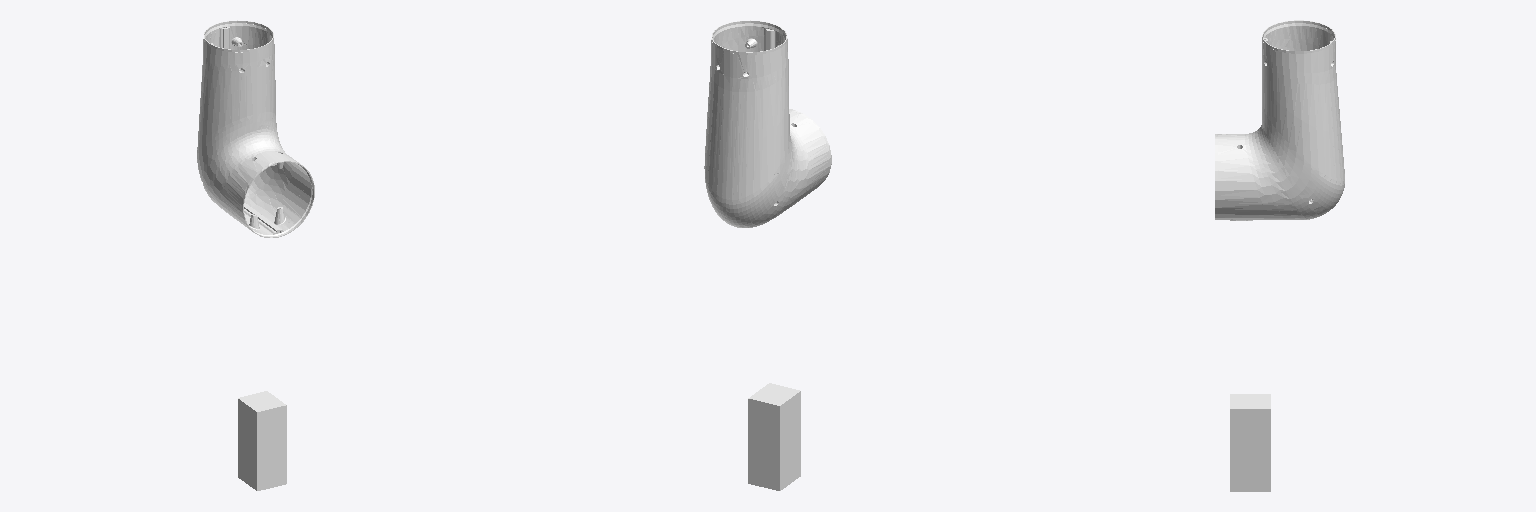
URDF robot description (robotinoarm):
<robot name="robotinoarm">

	<link name="linkbase">
	
		<collision>
		
			<geometry>
				<box size="0.04096 0.0473 0.105" />
			</geometry>
			<origin rpy="0 0 0" xyz="0 0 0.0525"/>
			
		</collision>
		
		<visual>
			<geometry>
				<box size="0.04096 0.0473 0.105" />
			</geometry>
			<material name="white">
				<color rgba="1 1 1 1"/>
			</material>
			<origin rpy="0 0 0" xyz="0 0 0.0525"/>
		</visual>
	
	</link>
	
	<link name="linkbasemotor">
	
		<collision>
			<origin rpy="0 0 0" xyz="0 0 0"/>
			<geometry>
			  <mesh filename="package://uibk_arm_model/meshes/motor1_collision.stl"/>
			</geometry>
		</collision>
		
		<visual>
			<geometry>
				<mesh filename="package://uibk_arm_model/meshes/motor1.stl"/>
			</geometry>
			<material name="white" />
			<origin rpy="0 0 0" xyz="0 0 0"/>
		</visual>
	
	</link>
	
	<link name="link1">
	
		<collision>
			<origin rpy="0 0 0" xyz="0 0 0"/>
			<geometry>
			  <mesh filename="package://uibk_arm_model/meshes/link1_collision.stl"/>
			</geometry>
		</collision>
		
		<visual>
			<geometry>
				<mesh filename="package://uibk_arm_model/meshes/link1.stl"/>
			</geometry>
			<material name="white" />
			<origin rpy="0 0 0" xyz="0 0 0"/>
		</visual>
	
	</link>
	
	<link name="link2">
	
		<collision>
			<origin rpy="0 0 0" xyz="0 0 0"/>
			<geometry>
			  <mesh filename="package://uibk_arm_model/meshes/link2_collision.stl"/>
			</geometry>
		</collision>
		
		<visual>
			<geometry>
				<mesh filename="package://uibk_arm_model/meshes/link2.stl"/>
			</geometry>
			<material name="white" />
			<origin rpy="0 0 0" xyz="0 0 0"/>
		</visual>
	
	</link>
	
	<link name="link3">
	
		<collision>
			<origin rpy="0 0 0" xyz="0 0 0"/>
			<geometry>
			  <mesh filename="package://uibk_arm_model/meshes/link3_collision.stl"/>
			</geometry>
		</collision>
		
		<visual>
			<geometry>
				<mesh filename="package://uibk_arm_model/meshes/link3.stl"/>
			</geometry>
			<material name="white" />
			<origin rpy="0 0 0" xyz="0 0 0"/>
		</visual>
	
	</link>
	
	<link name="link4">
	
		<collision>
			<origin rpy="0 0 0" xyz="0 0 0"/>
			<geometry>
			  <mesh filename="package://uibk_arm_model/meshes/link4_collision.stl"/>
			</geometry>
		</collision>
		
		<visual>
			<geometry>
				<mesh filename="package://uibk_arm_model/meshes/link4.stl"/>
			</geometry>
			<material name="white" />
			<origin rpy="0 0 0" xyz="0 0 0"/>
		</visual>
		
	</link>
	
	<link name="link5">
		
	</link>
	
	<link name="linkhandbase">
		
	</link>

	<joint name="baserot" type="revolute">
		<parent link="linkbase"/>
		<child link="linkbasemotor"/>
		<axis xyz="0 0 1" />
		<origin xyz="0.0 -0.01591 0.140" rpy="0 0 0" />
		<limit upper="1.7" lower="-1.7" effort="160" velocity="30" />
	</joint>

	<joint name="armjoint1" type="revolute">
		<parent link="linkbasemotor"/>
		<child link="link1"/>
		<origin xyz="0.0 -0.02 0.0" rpy="0 0 0" />
		<axis xyz="0 1 0" />
		<limit upper="1.9" lower="-1.9" effort="190" velocity="30" />
	</joint>
	
	<joint name="armjoint2" type="revolute">
		<parent link="link1"/>
		<child link="link2"/>
		<axis xyz="0 1 0" />
		<origin xyz="0.0 0.09 0.28" rpy="0 0 0" />
		<limit upper="1.9" lower="-1.9" effort="190" velocity="30" />
	</joint>
	
	<joint name="armjoint3" type="revolute">
		<parent link="link2"/>
		<child link="link3"/>
		<origin xyz="0.0 0.0 0.13" rpy="0 0 0" />
		<axis xyz="0 0 1" />
		<limit upper="1.7" lower="-1.7" effort="190" velocity="30" />
	</joint>

	<joint name="armjoint4" type="revolute">
		<parent link="link3"/>
		<child link="link4"/>
		<origin xyz="0.0 -0.053 0.065" rpy="0 0 0" />
		<axis xyz="0 0 1" />
		<limit upper="1.7" lower="-1.7" effort="160" velocity="30" />
	</joint>
	
	<joint name="armjoint5" type="revolute">
		<parent link="link4"/>
		<child link="link5"/>
		<origin xyz="0.0 -0.027 0.035" rpy="0 0 0" />
		<axis xyz="0 0 1" />
		<limit upper="1.7" lower="-1.7" effort="160" velocity="30" />
	</joint>
	
	<joint name="handjoint" type="fixed">
		<parent link="link5"/>
		<child link="linkhandbase"/>
	</joint>
  
</robot>

--- What the picture shows (computed from the rendered views, not written in the file) ---
Views: 3 orthographic renders of the robot side by side, from view 1: azimuth 30°, elevation 25°; view 2: azimuth 150°, elevation 25°; view 3: azimuth 270°, elevation 25°.
Model robotinoarm with 8 links and 7 joints (6 revolute, 1 fixed), rooted at linkbase, posed every joint at zero.
Visible links, largest first — view 1: link2, linkbase; view 2: link2, linkbase; view 3: link2, linkbase.
Boxes of the visible links, left/top/right/bottom form: link2: left=197, top=20, right=314, bottom=237; linkbase: left=238, top=391, right=286, bottom=490; link2: left=704, top=20, right=831, bottom=227; linkbase: left=748, top=383, right=800, bottom=490; link2: left=1215, top=20, right=1344, bottom=220; linkbase: left=1230, top=394, right=1270, bottom=491.
Bounding box of the posed robot: 0.0996 × 0.1501 × 0.5683 m (x, y, z).
Meshes: 5 distinct files referenced, 1 mesh visuals loaded (1 binary STL); not drawn: 4 (reference not matched to a file when rendering).